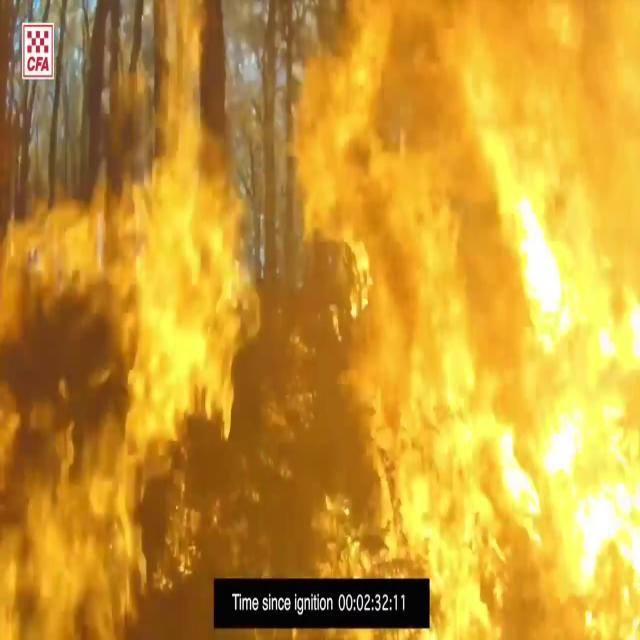Fire: (286, 1, 640, 627), (0, 4, 275, 624)
